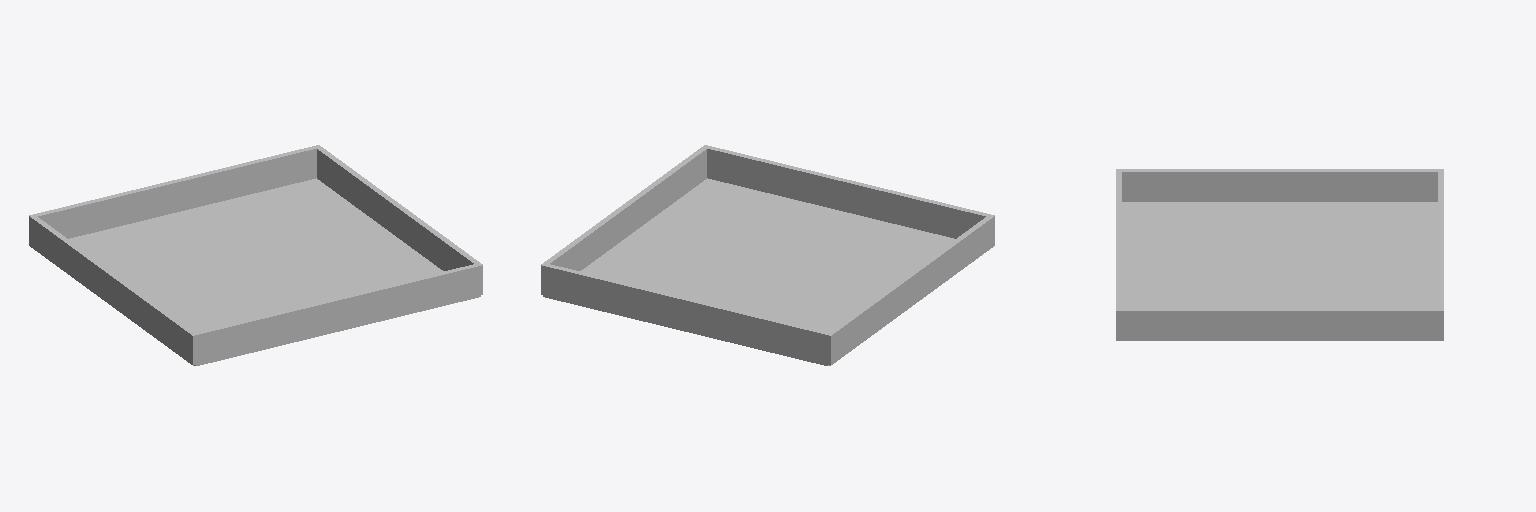
The model's file is walls.obj.
3 views of the same model, side by side, from view 1: azimuth 30°, elevation 25°; view 2: azimuth 150°, elevation 25°; view 3: azimuth 270°, elevation 25° (orthographic).
Visible parts, largest first — view 1: floor_Cube.009, Cube.003_Cube.008; view 2: floor_Cube.009, Cube.003_Cube.008; view 3: floor_Cube.009, Cube.003_Cube.008.
Part boxes in pixels (x1,y1,x2,y2): floor_Cube.009: (69,178,480,365); Cube.003_Cube.008: (29,145,482,365); floor_Cube.009: (543,178,954,365); Cube.003_Cube.008: (541,145,994,365); floor_Cube.009: (1122,202,1437,307); Cube.003_Cube.008: (1116,169,1443,340).
Bounding box in the file's own units: 40.8 × 4.2 × 40.